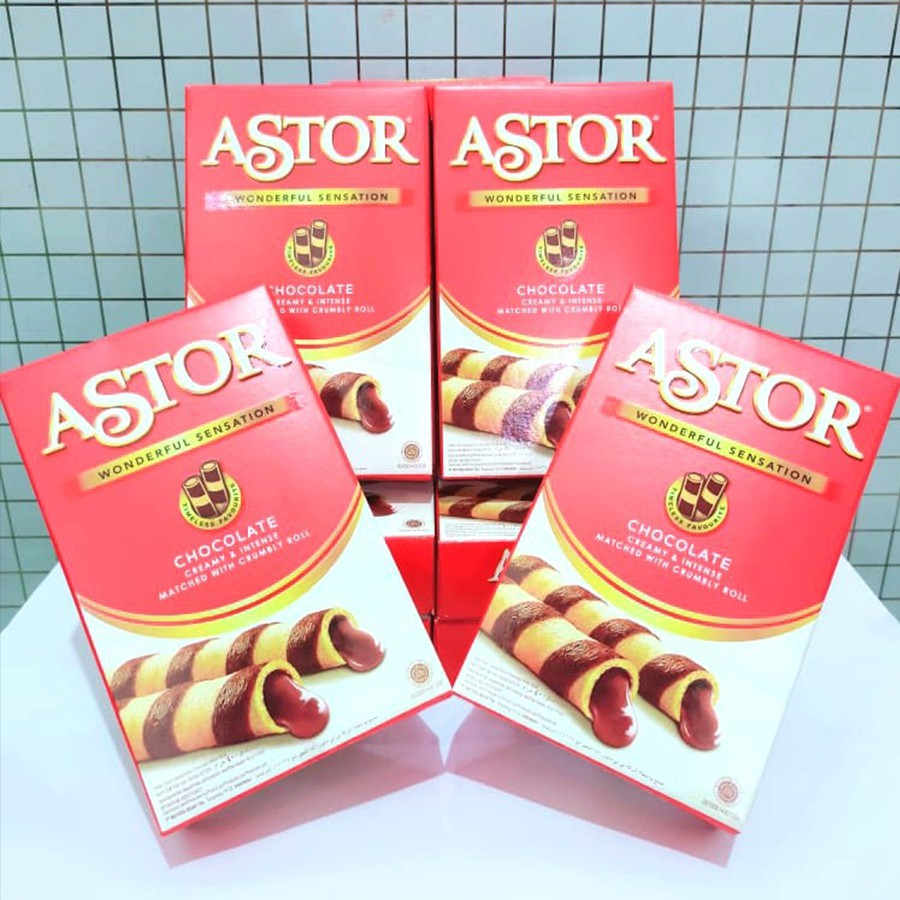Astor Chocolate (40g): (0, 390, 307, 889), (592, 273, 900, 736), (427, 76, 692, 468), (174, 76, 426, 472), (124, 298, 139, 326), (285, 788, 300, 796)
